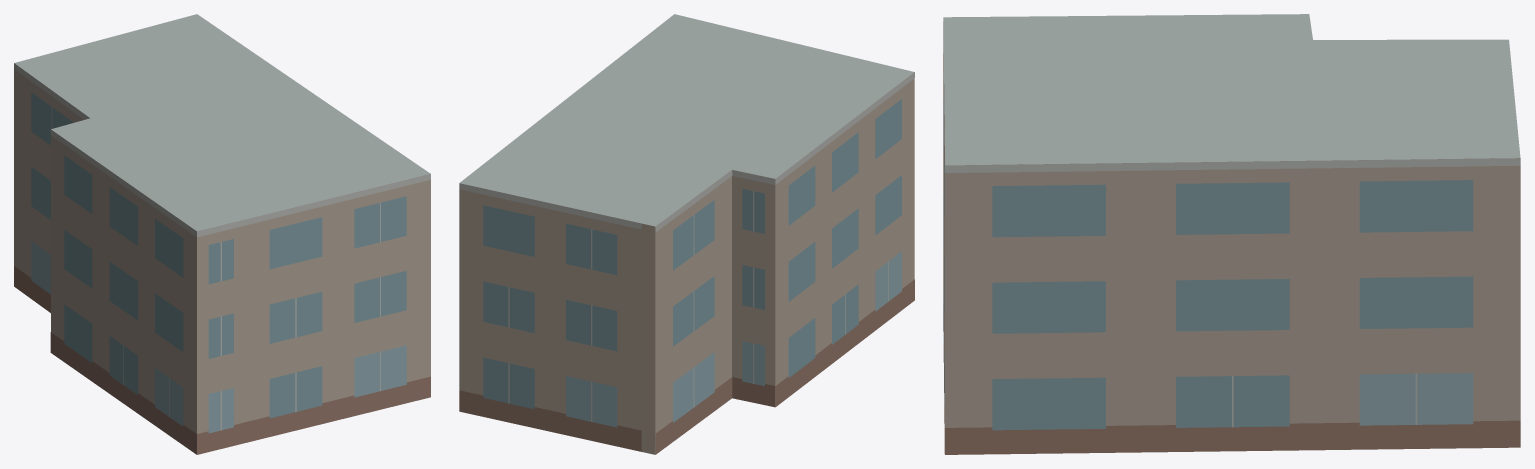
The model's file is survey-upis-33001355.glb.
The picture shows the model from 3 angles, left to right: view 1: azimuth 30°, elevation 25°; view 2: azimuth 150°, elevation 25°; view 3: azimuth 270°, elevation 25°; orthographic projection. The views are drawn at different scales.
Visible parts, largest first — view 1: survey-upis-33001355.tmp; view 2: survey-upis-33001355.tmp; view 3: survey-upis-33001355.tmp.
Part boxes in pixels (box(x1,y1,x2,y2)): survey-upis-33001355.tmp: box(14, 14, 430, 454); survey-upis-33001355.tmp: box(459, 14, 914, 454); survey-upis-33001355.tmp: box(943, 14, 1520, 454).
Bounding box in the file's own units: 10.27 × 9.15 × 16.54.
